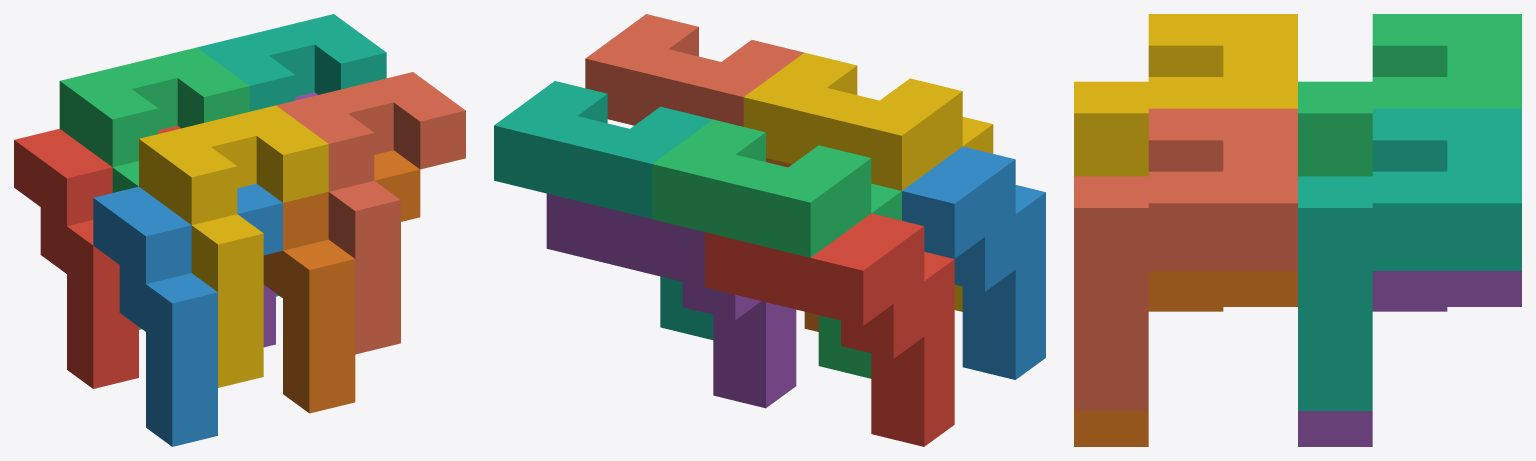
File: tiling.obj
3 renders of one model, left to right at view 1: azimuth 30°, elevation 25°; view 2: azimuth 150°, elevation 25°; view 3: azimuth 270°, elevation 25°, orthographic. The views are drawn at different scales.
Visible parts, largest first — view 1: copy_1_domain_4, copy_1_domain_2, copy_1_domain_8, copy_1_domain_1, copy_1_domain_6, copy_1_domain_3, copy_1_domain_7, copy_1_domain_5; view 2: copy_1_domain_1, copy_1_domain_3, copy_1_domain_2, copy_1_domain_4, copy_1_domain_7, copy_1_domain_5, copy_1_domain_8; view 3: copy_1_domain_7, copy_1_domain_8, copy_1_domain_3, copy_1_domain_4, copy_1_domain_5, copy_1_domain_6.
Boxes of the visible parts, box(x1,y1,x2,y2) form: copy_1_domain_4: box(139, 105, 328, 387); copy_1_domain_2: box(93, 183, 282, 446); copy_1_domain_8: box(276, 72, 465, 354); copy_1_domain_1: box(14, 125, 180, 388); copy_1_domain_6: box(263, 150, 420, 413); copy_1_domain_3: box(59, 47, 249, 329); copy_1_domain_7: box(197, 14, 386, 296); copy_1_domain_5: box(263, 92, 317, 347); copy_1_domain_1: box(705, 213, 954, 446); copy_1_domain_3: box(652, 119, 901, 378); copy_1_domain_2: box(902, 146, 1045, 379); copy_1_domain_4: box(743, 52, 993, 311); copy_1_domain_7: box(494, 81, 713, 339); copy_1_domain_5: box(546, 193, 796, 408); copy_1_domain_8: box(585, 14, 803, 126); copy_1_domain_7: box(1298, 108, 1521, 410); copy_1_domain_8: box(1074, 108, 1297, 410); copy_1_domain_3: box(1298, 14, 1521, 176); copy_1_domain_4: box(1074, 14, 1297, 176); copy_1_domain_5: box(1298, 271, 1521, 446); copy_1_domain_6: box(1074, 271, 1297, 446).
Bounding box in the file's own units: 7 × 5 × 6.
